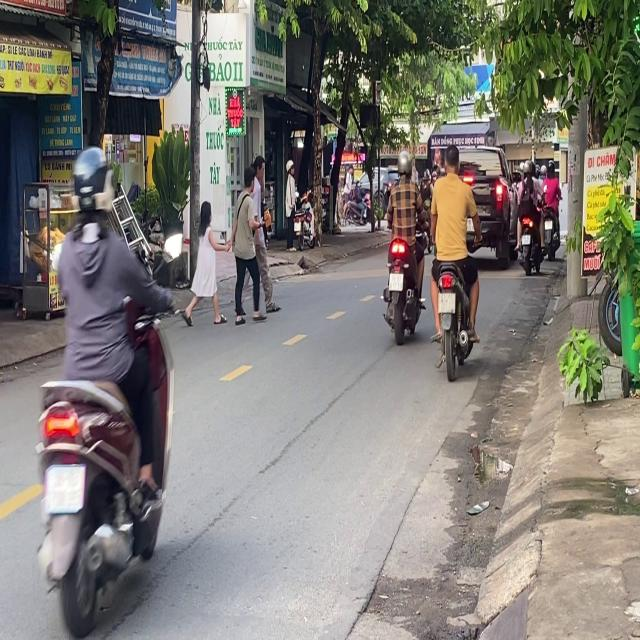helmet: (70, 144, 113, 229), (396, 150, 411, 176)
licenseplate: (28, 142, 179, 634), (427, 140, 482, 378), (381, 148, 426, 342)
motorcyclist: (442, 142, 460, 175)
nohelmet: (44, 465, 84, 510), (438, 292, 455, 312), (388, 272, 403, 290)
